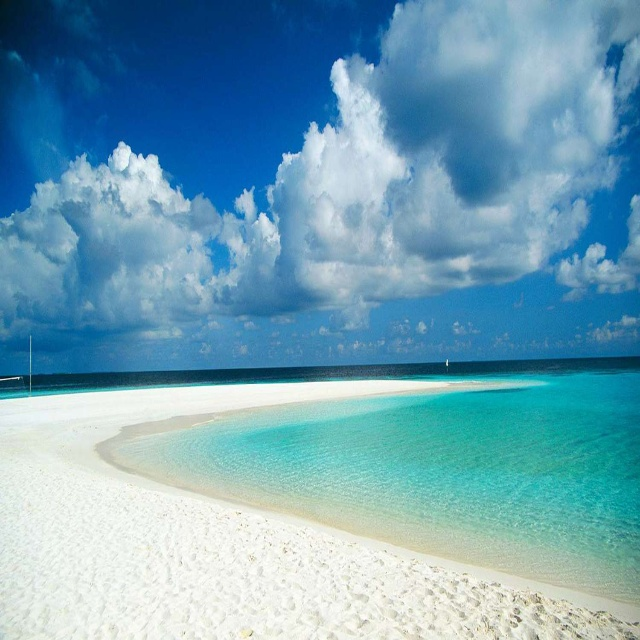linhaEspraiamento: (112, 463, 638, 618), (36, 404, 283, 521), (228, 387, 432, 434), (392, 383, 543, 404)
